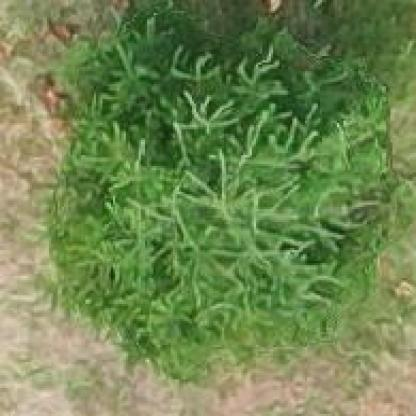Coniferous Tree: (45, 0, 397, 371)
